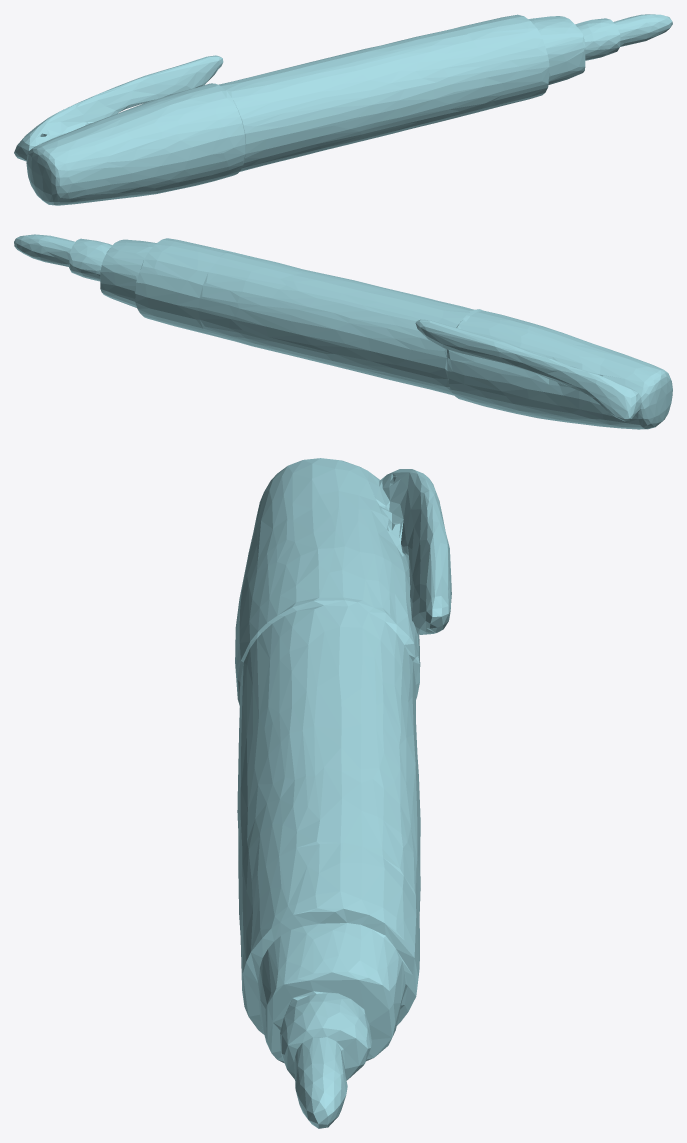
Rendered from sharpie_open.obj.
The picture shows the model from 3 angles, top to bottom: view 1: azimuth 30°, elevation 25°; view 2: azimuth 150°, elevation 25°; view 3: azimuth 270°, elevation 25°; orthographic projection. The views are drawn at different scales.
Visible parts, largest first — view 1: geometry_0; view 2: geometry_0; view 3: geometry_0.
Boxes of the visible parts, x1=… form: geometry_0: x1=14, y1=14, x2=672, y2=205; geometry_0: x1=14, y1=234, x2=672, y2=429; geometry_0: x1=235, y1=458, x2=451, y2=1128.
Bounding box in the file's own units: 0.1797 × 0.0251 × 0.0266.
